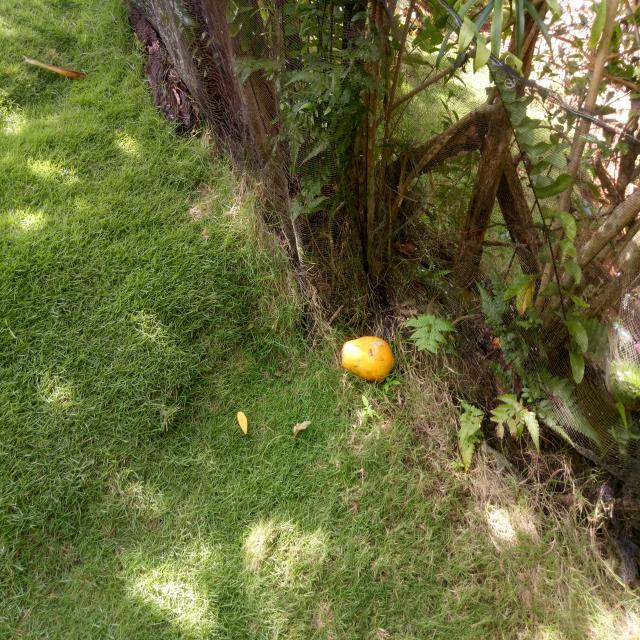Pepaya rippen: (336, 331, 399, 388)
